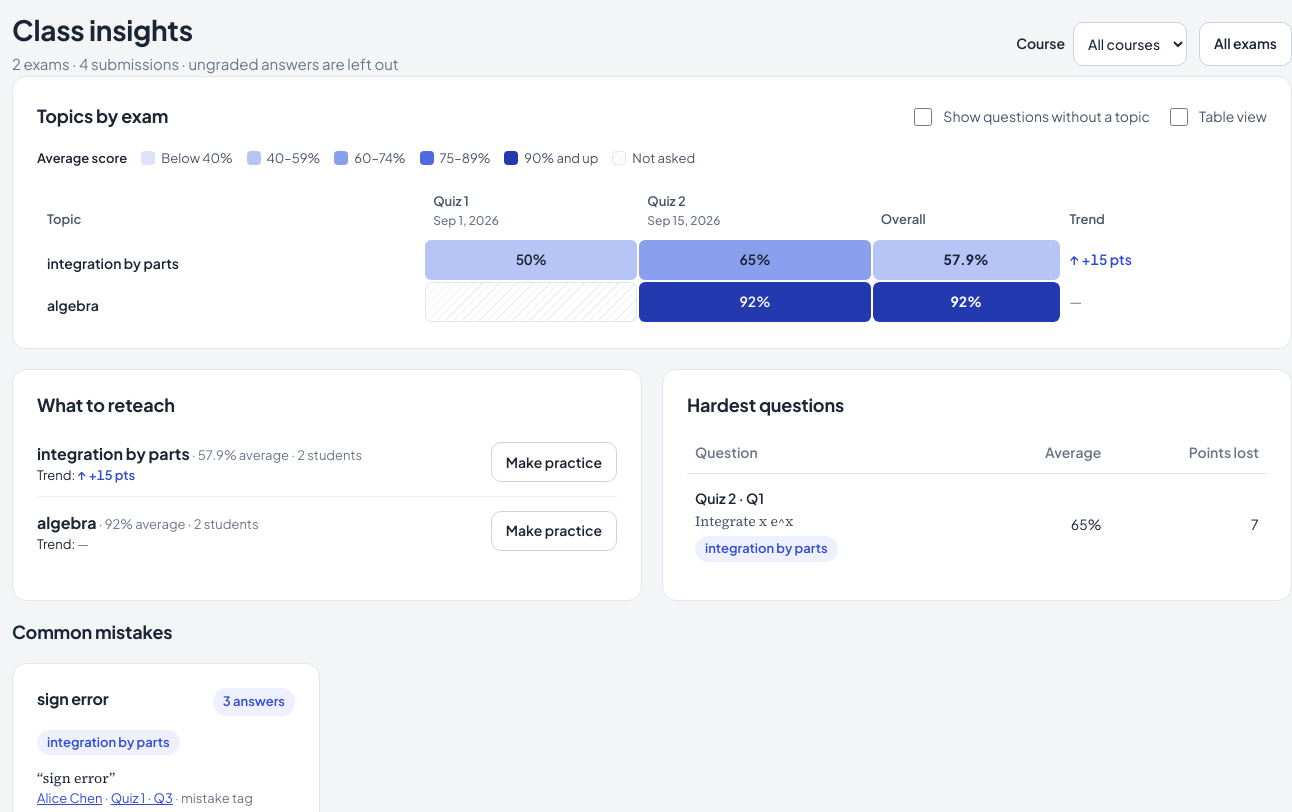
Test: InsightsPage › table view and filters
Later steps or results of the test are not shown.
Expected: the table named "Average score per topic" is shown, [37, 184, 1267, 324]
Click the checkbox labelled "Table view": click(1179, 116) [1170, 108, 1188, 126]
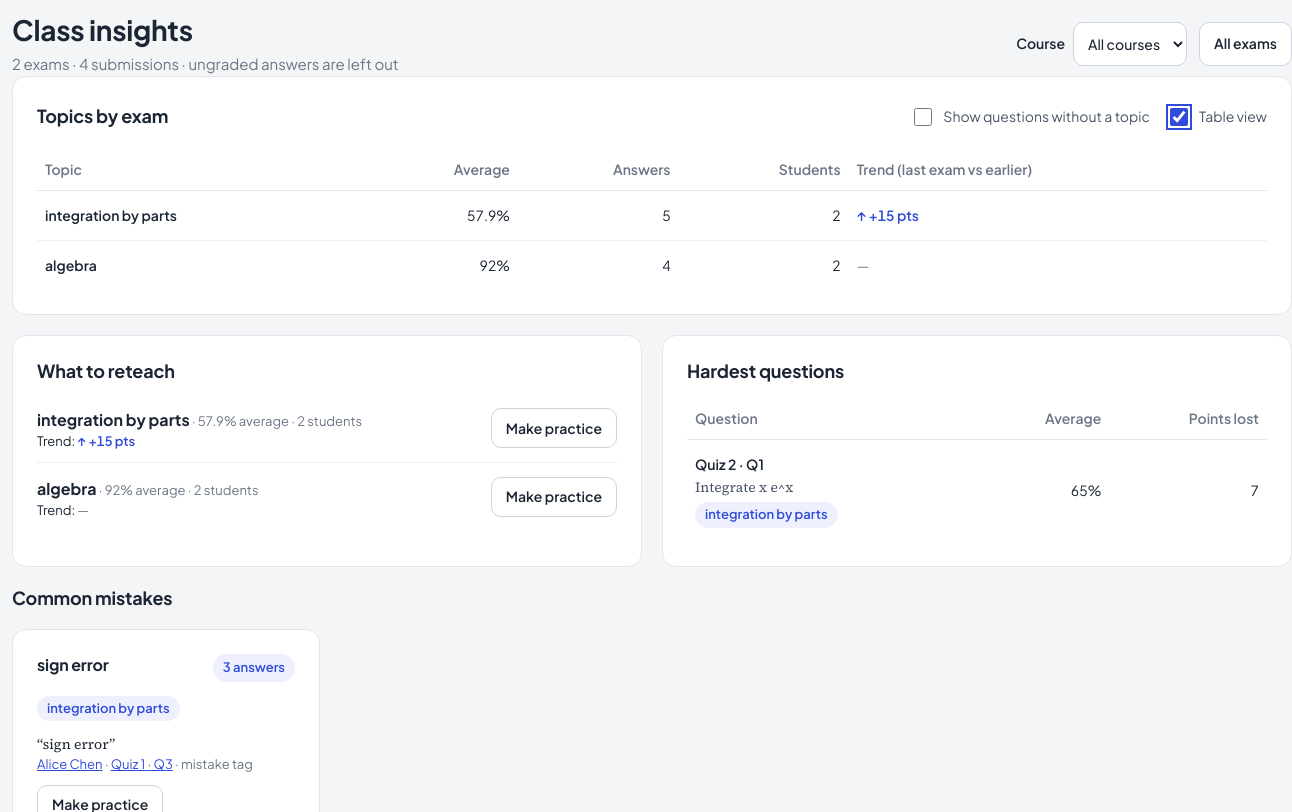
Now the column heading "Trend (last exam vs earlier)" is shown, box [849, 148, 1267, 190]
